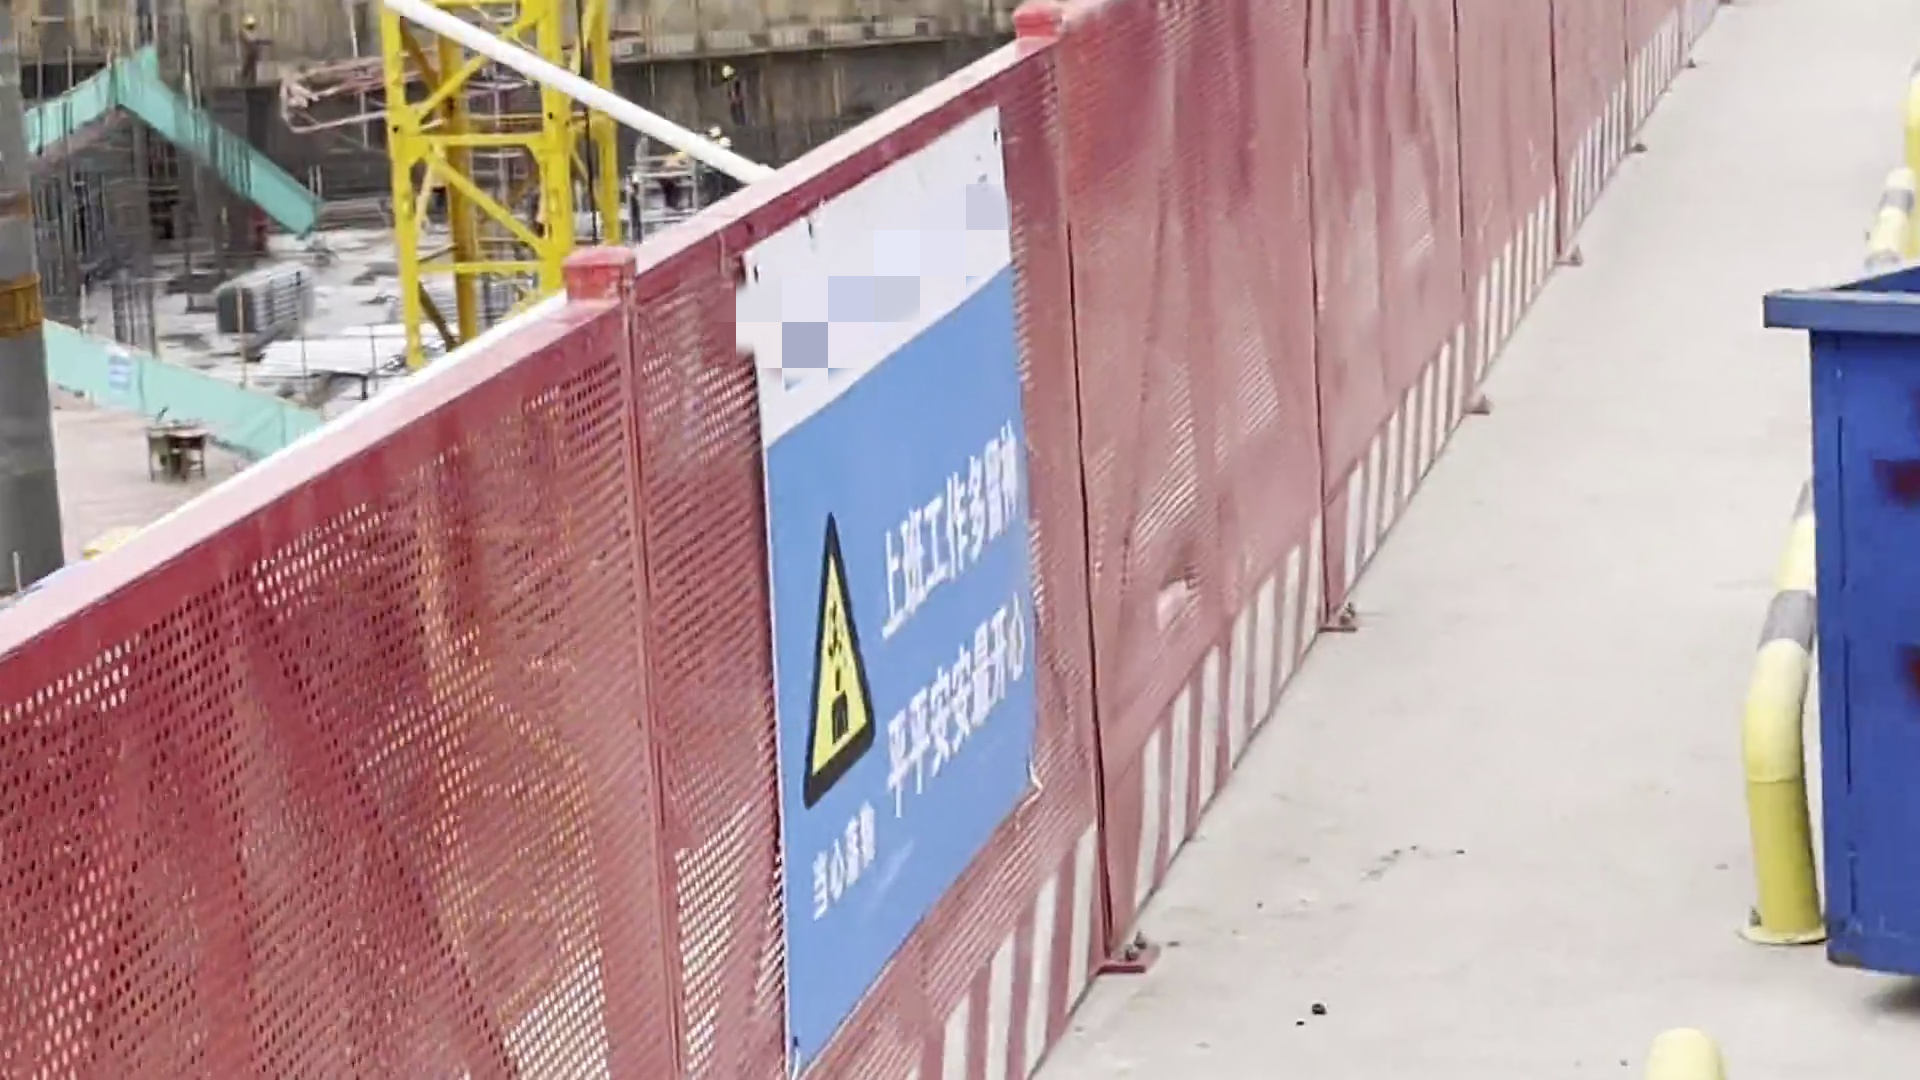helmet: (707, 125, 723, 138), (721, 65, 738, 76), (243, 13, 258, 24), (723, 137, 731, 149)
